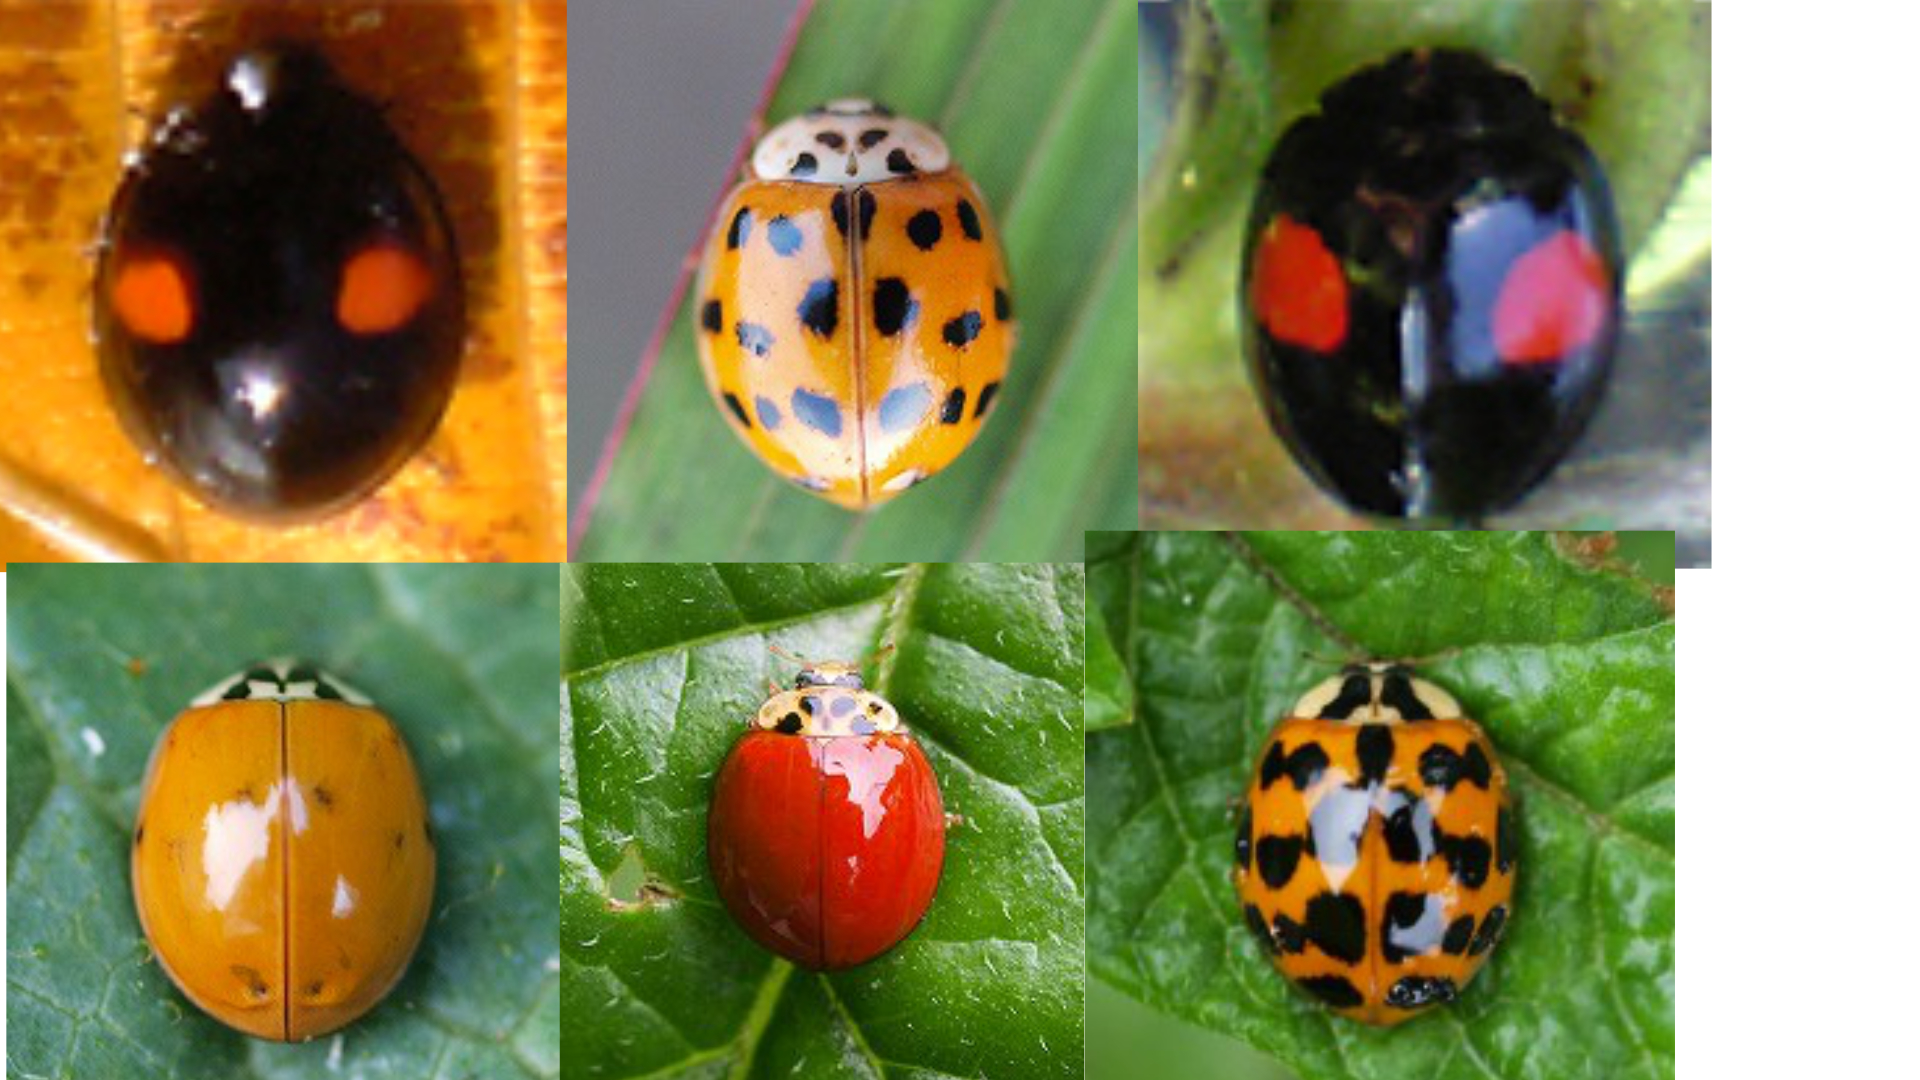red: (694, 98, 1014, 504), (131, 653, 438, 1042), (1226, 654, 1522, 1030), (702, 661, 943, 971)
two_spots: (1233, 45, 1622, 525), (96, 41, 458, 524)
